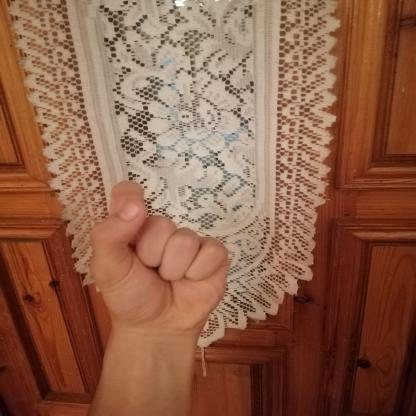FAA: (73, 171, 242, 344)
